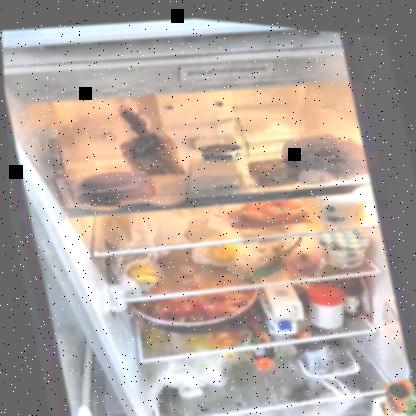broccoli: (295, 331, 351, 374)
butter: (245, 147, 300, 183)
carrot: (227, 187, 309, 229)
cheese: (183, 151, 241, 190)
green_chillies: (231, 246, 287, 277)
lemon: (125, 255, 163, 287), (202, 234, 242, 263)
milk: (253, 276, 306, 332), (396, 404, 415, 415)
salami: (79, 164, 143, 205)
tomato: (283, 242, 321, 271)
yoghurt: (315, 219, 373, 266), (313, 180, 371, 224), (197, 134, 243, 161)
